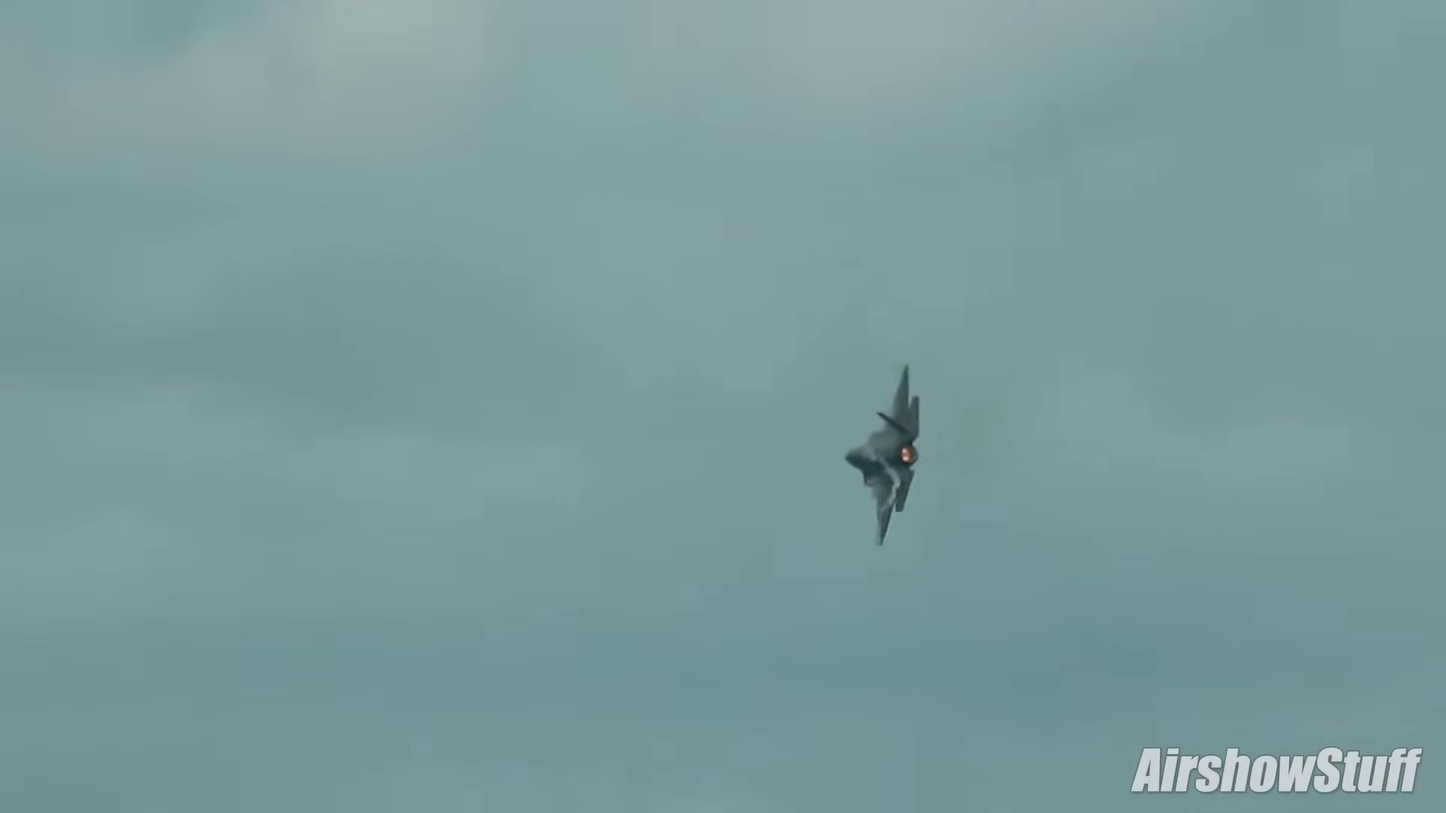F35: (838, 349, 931, 554)
